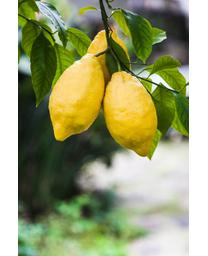lemon: (48, 55, 103, 141), (105, 71, 159, 157)
